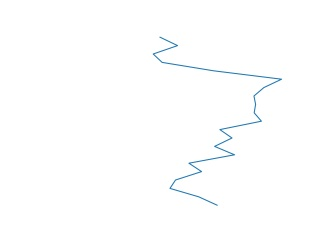floodPlain: (151, 34, 285, 210)
